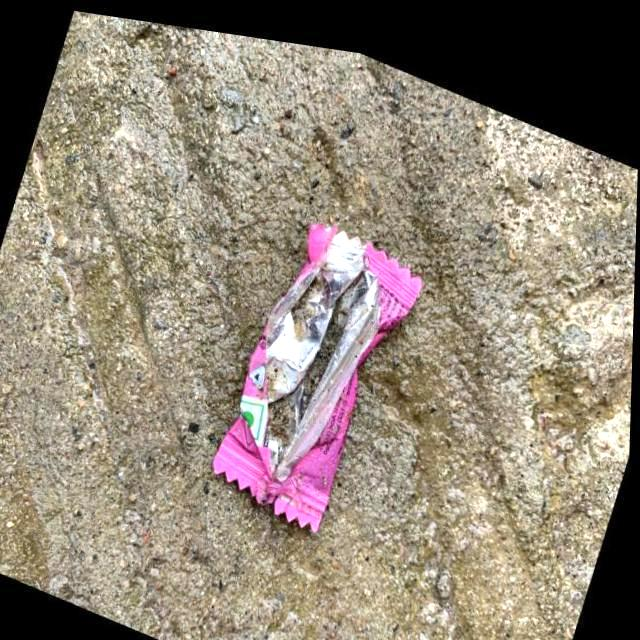packet: (200, 192, 432, 545)
